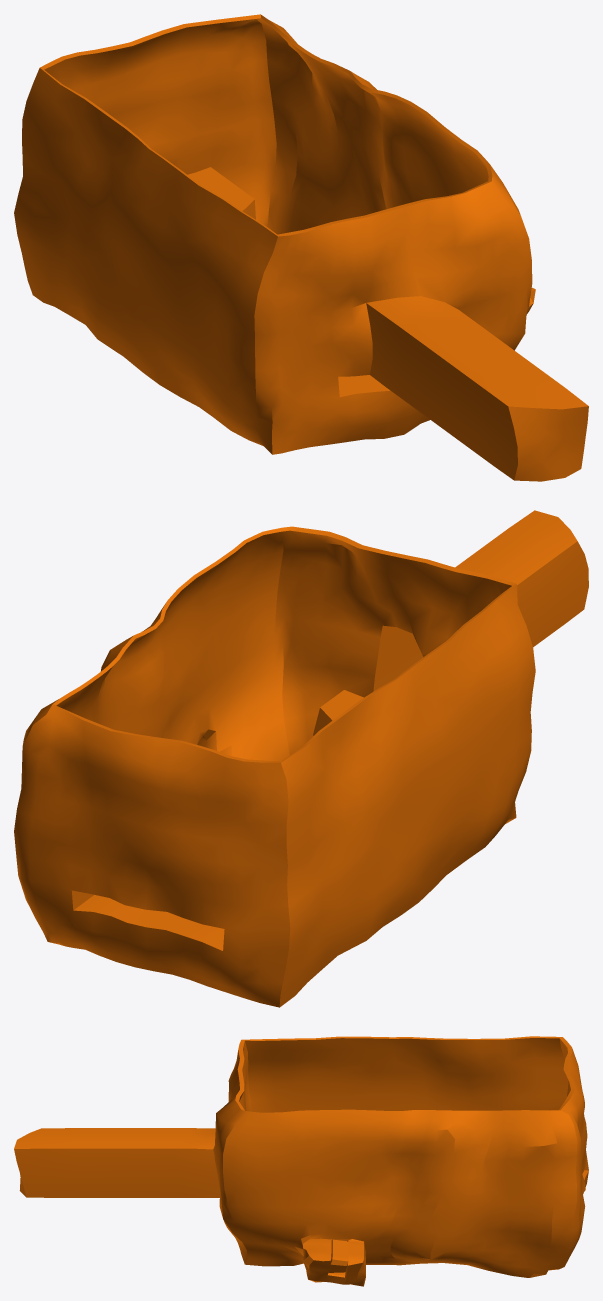
Rendered from cueva.fbx.
The picture shows the model from 3 angles, top to bottom: view 1: azimuth 30°, elevation 25°; view 2: azimuth 150°, elevation 25°; view 3: azimuth 270°, elevation 25°; orthographic projection. The views are drawn at different scales.
Visible parts, largest first — view 1: Retopo_Cube; view 2: Retopo_Cube; view 3: Retopo_Cube.
Boxes of the visible parts, x1,y1,x2,y2 form: Retopo_Cube: [14, 14, 588, 481]; Retopo_Cube: [14, 510, 588, 1007]; Retopo_Cube: [14, 1036, 588, 1286].
Bounding box in the file's own units: 13237 × 9288 × 28368.
